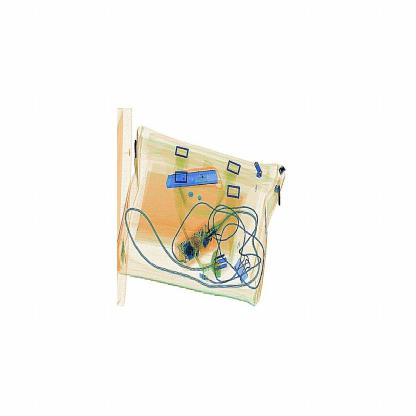pliers: (156, 156, 229, 196)
